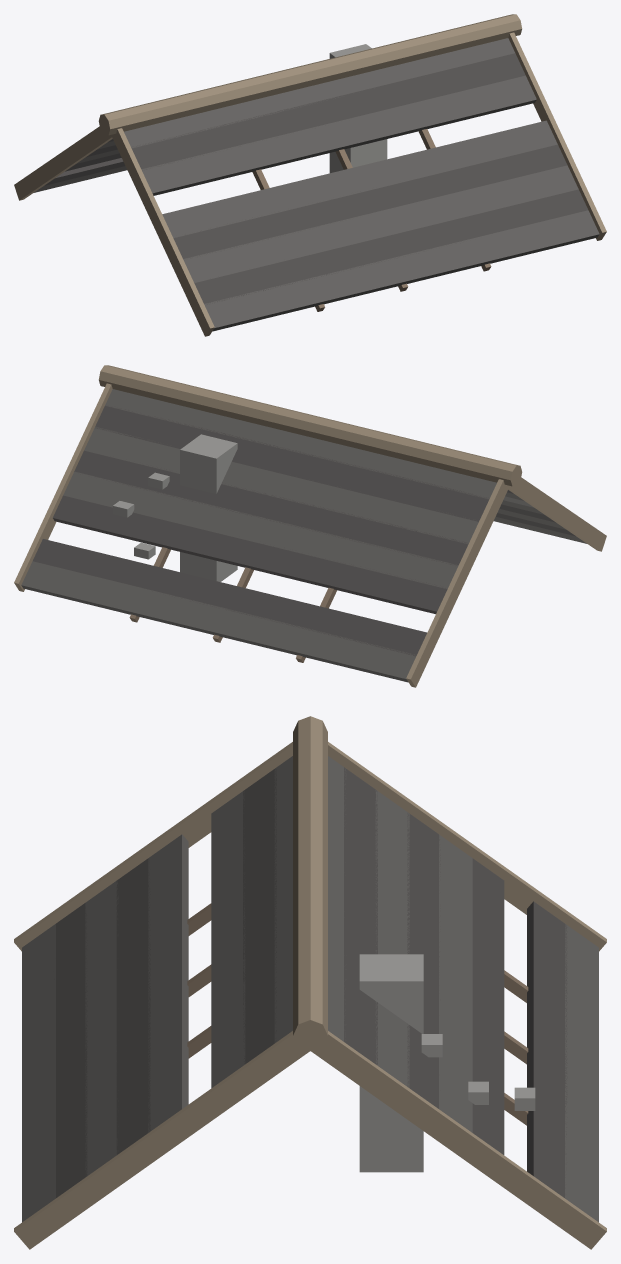
File: IzbaRoofC.fbx
3 views of the same model, one above another, from view 1: azimuth 30°, elevation 25°; view 2: azimuth 150°, elevation 25°; view 3: azimuth 270°, elevation 25° (orthographic). The views are drawn at different scales.
Visible parts, largest first — view 1: IzbaRoofC; view 2: IzbaRoofC; view 3: IzbaRoofC.
Part boxes in pixels (x1,y1,x2,y2): IzbaRoofC: [14, 14, 606, 336]; IzbaRoofC: [14, 365, 606, 687]; IzbaRoofC: [14, 716, 606, 1249].
Bounding box in the file's own units: 620 × 228 × 511.
